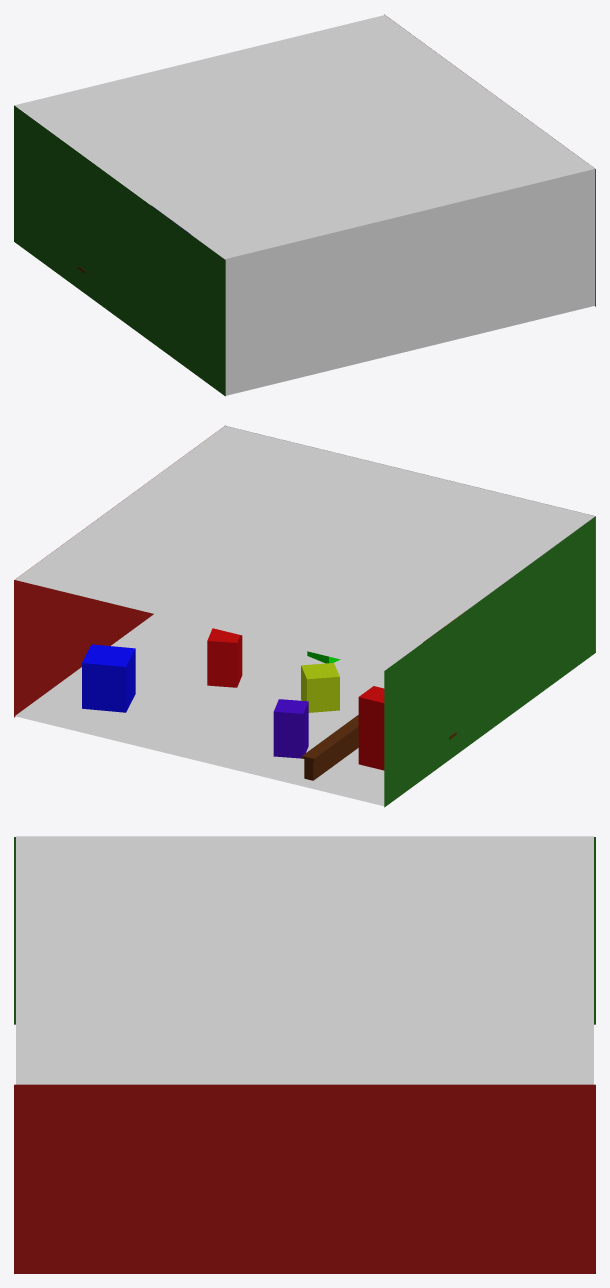
The model's file is cornell-nightclub.obj.
The picture shows the model from 3 angles, top to bottom: view 1: azimuth 30°, elevation 25°; view 2: azimuth 150°, elevation 25°; view 3: azimuth 270°, elevation 25°; orthographic projection. The views are drawn at different scales.
Parts seen in each view (by area): view 1: Ceiling, Back_Wall, Right_Wall; view 2: Ceiling, Right_Wall, Floor, Left_Wall, Blue.001, Bartender, Purple, Red, Yellow, Middle.001, Top, Back_Wall; view 3: Ceiling, Left_Wall, Right_Wall.
Part boxes in pixels (x1,y1,x2,y2): Ceiling: (15,15,594,258); Back_Wall: (225,168,595,395); Right_Wall: (14,105,225,396); Ceiling: (14,426,594,669); Right_Wall: (384,516,595,807); Floor: (15,614,422,806); Left_Wall: (14,425,225,717); Blue.001: (82,644,135,712); Bartender: (358,686,384,770); Purple: (273,699,308,758); Red: (207,628,242,687); Yellow: (301,663,339,712); Middle.001: (304,729,358,780); Top: (302,715,358,761); Back_Wall: (226,426,595,652); Ceiling: (16,836,593,1084); Left_Wall: (14,1084,595,1273); Right_Wall: (14,837,595,1024).
Bounding box in the file's own units: 18.3 × 6.55 × 18.07.
